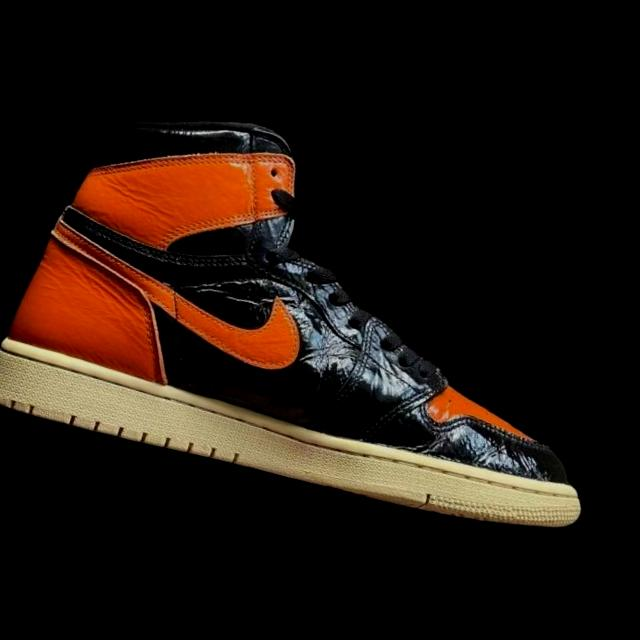nike_original_jordan: (0, 70, 640, 555)
